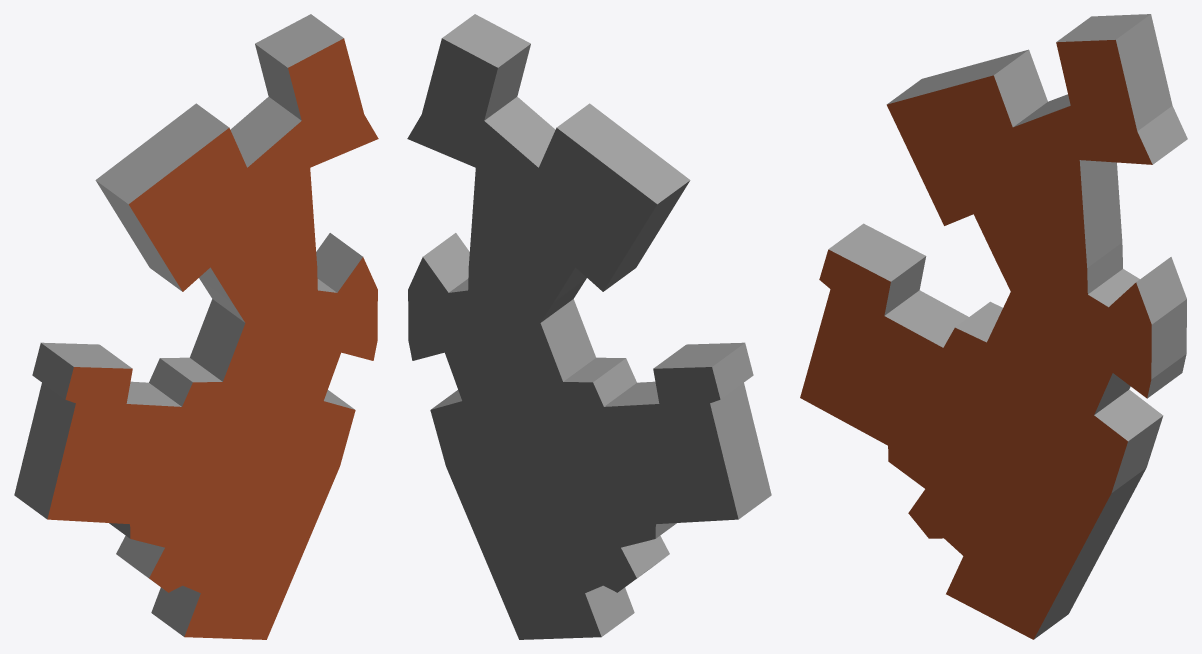
Rendered from construction_2017_assumed_A_Casa_h6m.obj.
3 renders of one model, left to right at view 1: azimuth 30°, elevation 25°; view 2: azimuth 150°, elevation 25°; view 3: azimuth 330°, elevation 25°, orthographic. The views are drawn at different scales.
Parts seen in each view (by area): view 1: construction_2017_assumed_A_Casa; view 2: construction_2017_assumed_A_Casa; view 3: construction_2017_assumed_A_Casa.
Boxes of the visible parts, x1=… form: construction_2017_assumed_A_Casa: x1=14, y1=14, x2=378, y2=639; construction_2017_assumed_A_Casa: x1=407, y1=14, x2=771, y2=639; construction_2017_assumed_A_Casa: x1=800, y1=14, x2=1187, y2=639.
Bounding box in the file's own units: 34.65 × 58.23 × 6.
